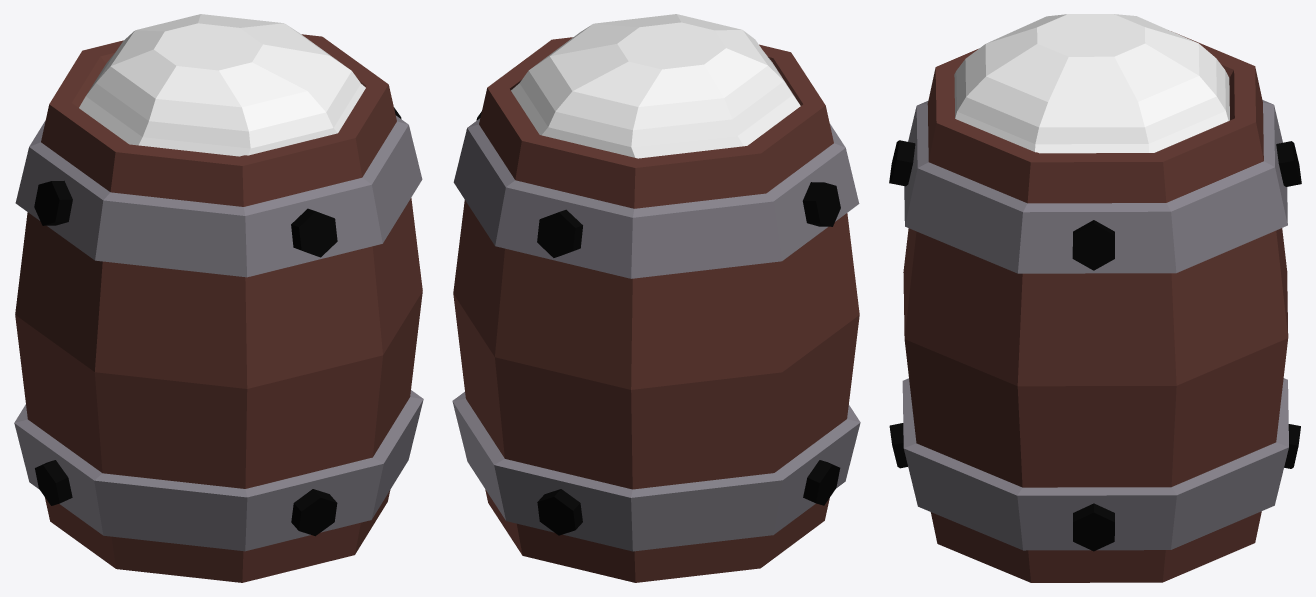
The model's file is gunpowder_barrel.fbx.
The picture shows the model from 3 angles, left to right: view 1: azimuth 30°, elevation 25°; view 2: azimuth 150°, elevation 25°; view 3: azimuth 270°, elevation 25°; orthographic projection.
Visible parts, largest first — view 1: Cylinder.008; view 2: Cylinder.008; view 3: Cylinder.008.
Part boxes in pixels (x1,y1,x2,y2): Cylinder.008: (14,14,423,582); Cylinder.008: (452,14,860,582); Cylinder.008: (889,14,1301,582).
Size of the model in its own units: 36.15 by 45.79 by 36.15.
